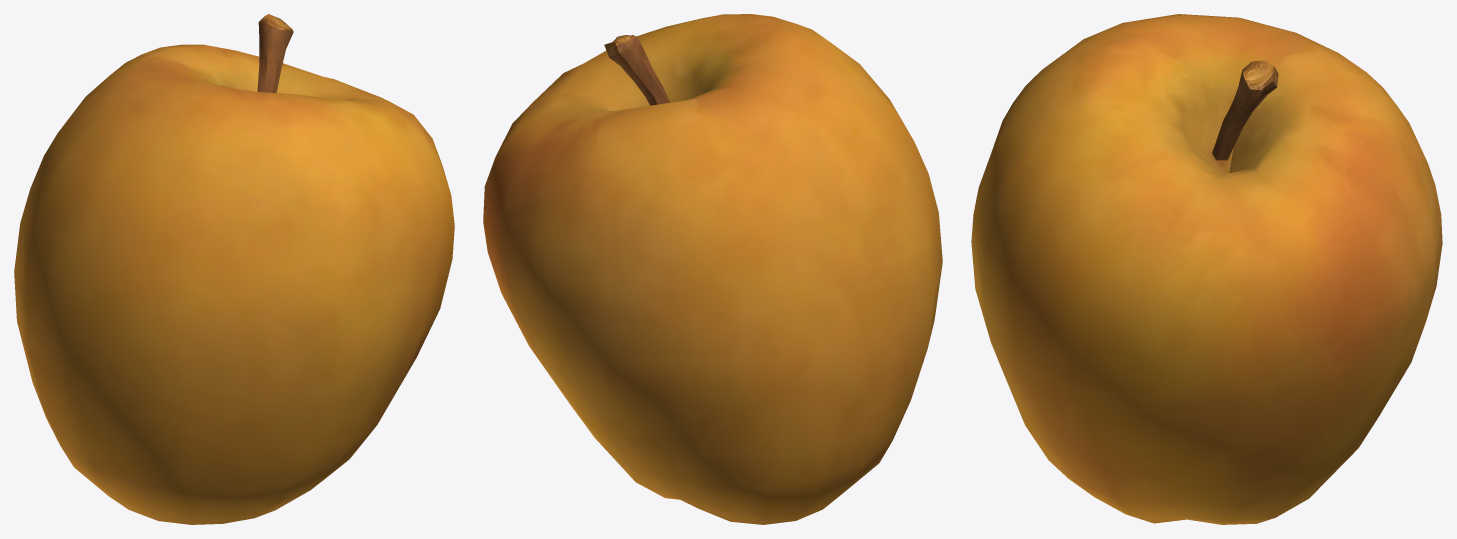
The model's file is fruit.glb.
3 views of the same model, side by side, from view 1: azimuth 30°, elevation 25°; view 2: azimuth 150°, elevation 25°; view 3: azimuth 270°, elevation 25° (orthographic). The views are drawn at different scales.
Visible parts, largest first — view 1: tripo_node_75f00610-aadf-48d3-ab50-f3fdea9764d7; view 2: tripo_node_75f00610-aadf-48d3-ab50-f3fdea9764d7; view 3: tripo_node_75f00610-aadf-48d3-ab50-f3fdea9764d7.
Part boxes in pixels (box(x1,y1,x2,y2)): tripo_node_75f00610-aadf-48d3-ab50-f3fdea9764d7: box(14, 14, 454, 524); tripo_node_75f00610-aadf-48d3-ab50-f3fdea9764d7: box(483, 14, 942, 524); tripo_node_75f00610-aadf-48d3-ab50-f3fdea9764d7: box(971, 14, 1442, 524).
Size of the model in its own units: 0.9141 by 1 by 0.8857.
Materials: 1 (1 with a texture image).
